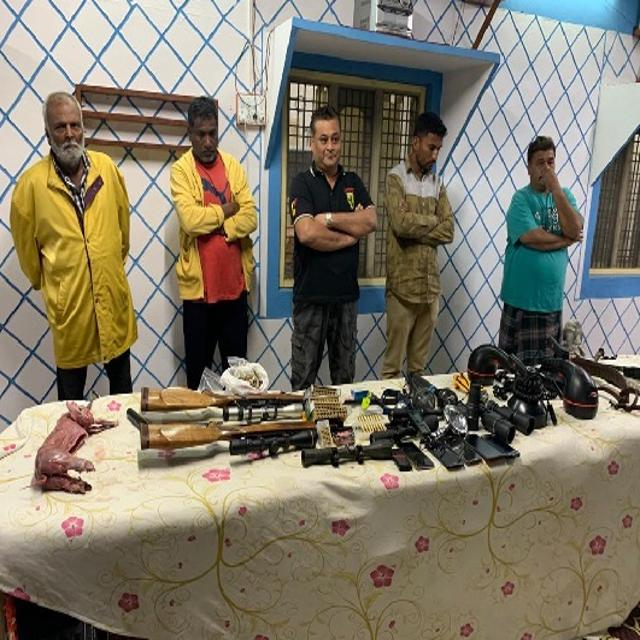gun: (103, 401, 460, 481), (116, 370, 455, 433)
poacher: (120, 66, 286, 431), (2, 69, 162, 432), (347, 75, 487, 420), (466, 99, 619, 413), (268, 75, 400, 412)
